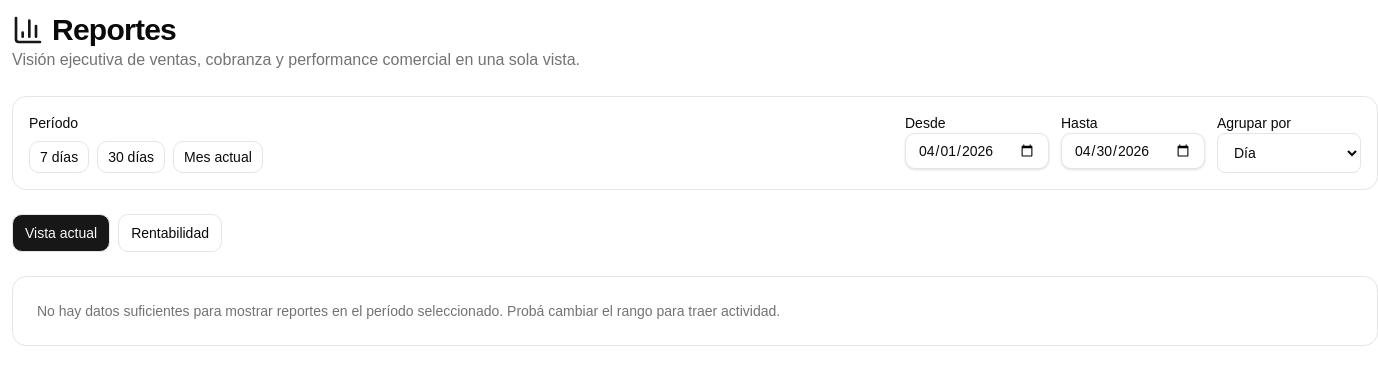
Test case: ReportsPage › toggles to profitability view and enables the profitability query
The image size is (1378, 391).
Click the button "Rentabilidad" at coordinates (170, 233), box x1=118 y1=214 x2=222 y2=252
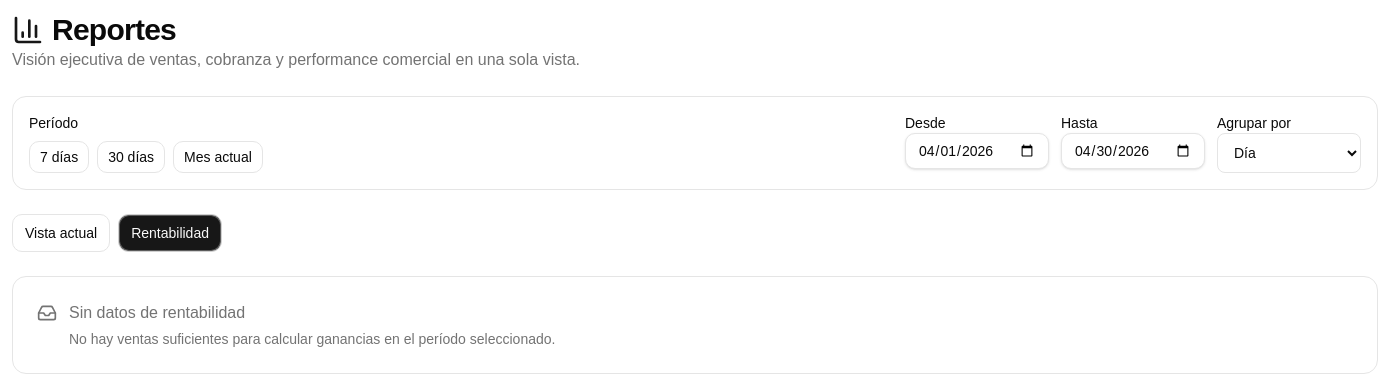
Result: the element with test id "profit-by-dimension-section" is shown at x1=12 y1=276 x2=1377 y2=374
